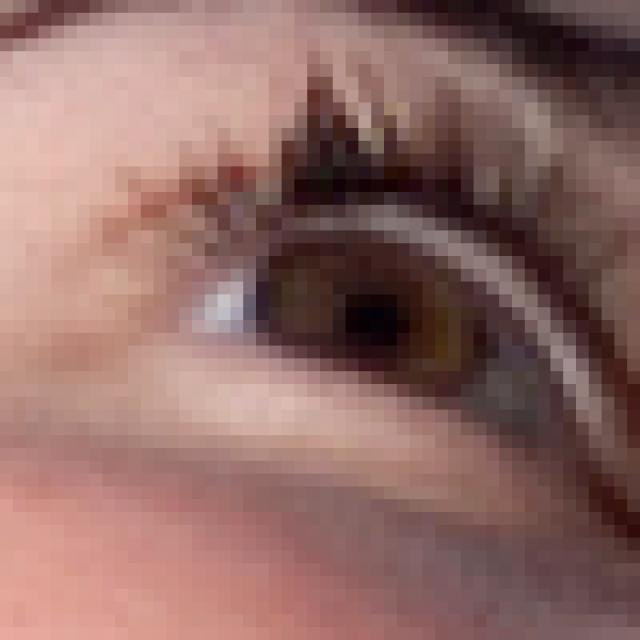no_fire: (27, 27, 633, 597)
